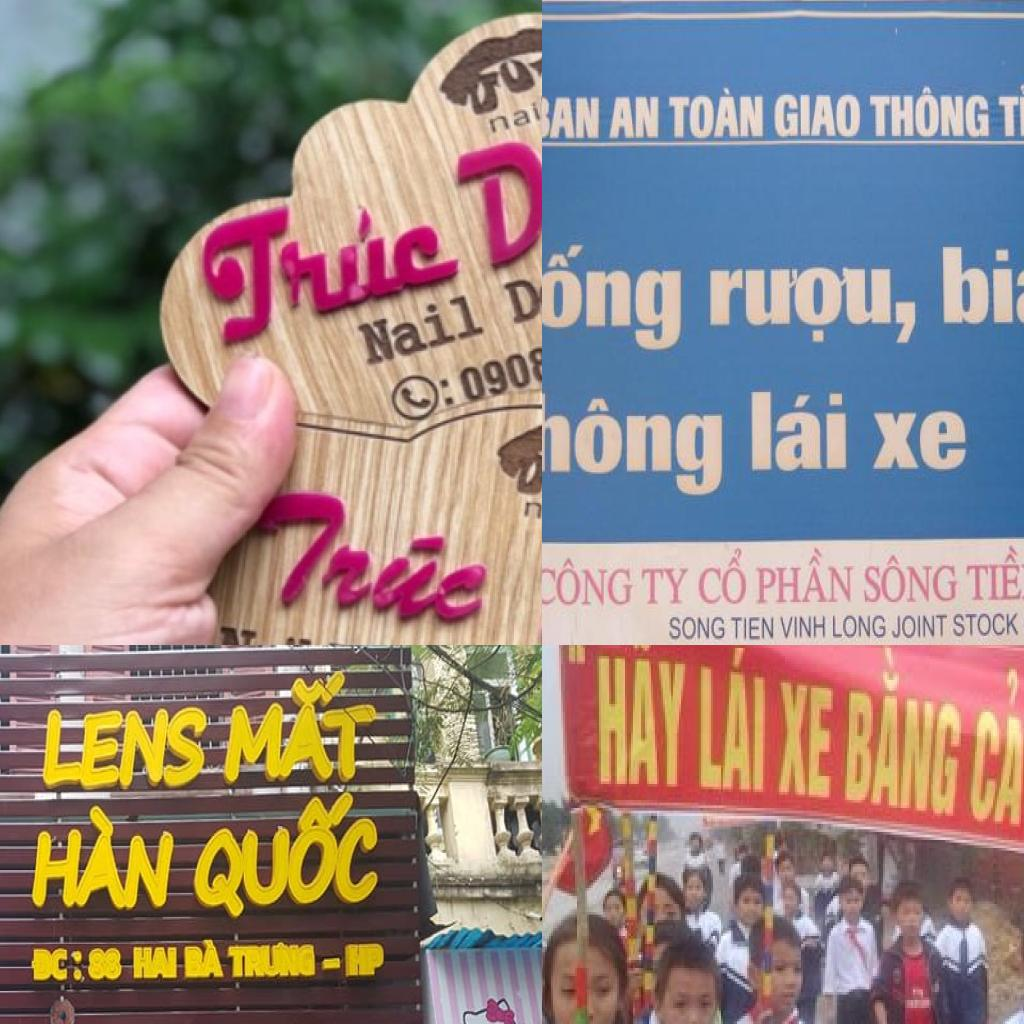text: (192, 180, 471, 357), (230, 479, 508, 642), (186, 788, 387, 921), (843, 645, 971, 821), (219, 666, 388, 788), (542, 390, 725, 499), (440, 88, 542, 277), (706, 264, 922, 348), (32, 806, 182, 914), (542, 243, 684, 354), (42, 706, 212, 794), (593, 645, 691, 797), (349, 282, 490, 377), (454, 288, 542, 411), (697, 645, 767, 792), (967, 666, 1024, 829), (747, 389, 851, 477), (936, 238, 1024, 328), (773, 680, 835, 800), (865, 87, 992, 141), (751, 542, 855, 607), (870, 409, 968, 471), (667, 85, 765, 143), (860, 552, 957, 609), (493, 226, 542, 336), (542, 552, 634, 608), (772, 92, 864, 142), (966, 540, 1024, 605), (478, 83, 542, 141), (228, 940, 317, 981), (696, 546, 749, 608), (208, 618, 321, 645), (542, 91, 602, 139), (609, 95, 661, 143), (641, 564, 690, 609), (31, 948, 84, 986), (952, 612, 1020, 641), (181, 938, 227, 980), (993, 83, 1024, 144), (830, 612, 888, 640), (892, 612, 948, 641), (133, 948, 179, 981), (666, 617, 726, 641), (345, 944, 386, 978), (727, 616, 775, 644), (86, 948, 123, 984), (779, 614, 828, 639), (517, 493, 542, 533), (565, 645, 591, 669)
